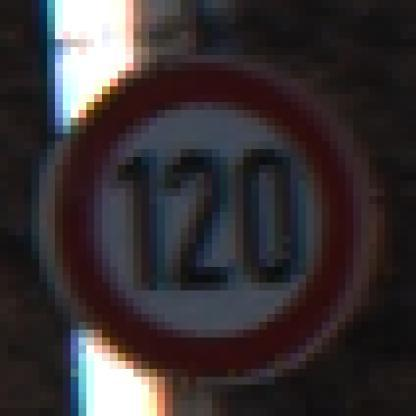Speed Limit -120-: (70, 55, 381, 354)
